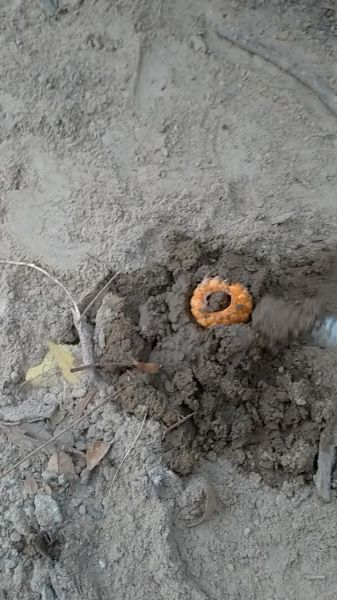eggs: (187, 275, 253, 331)
